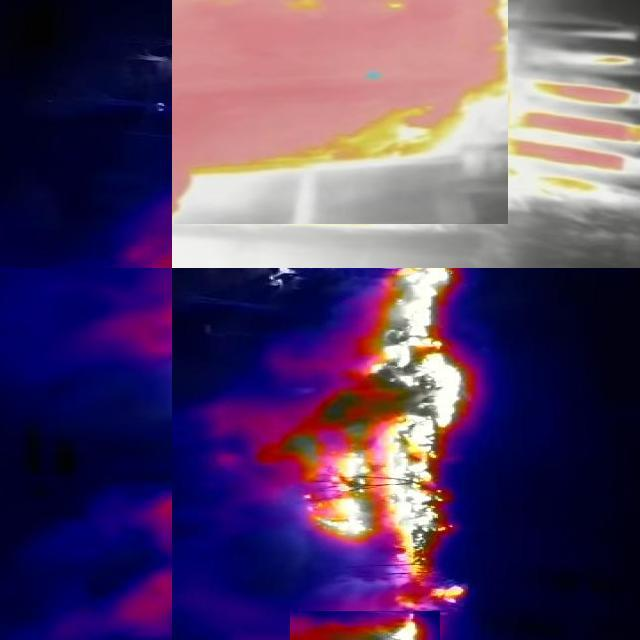fire: (173, 1, 509, 224), (283, 269, 471, 564), (339, 564, 475, 610), (291, 611, 441, 640)
